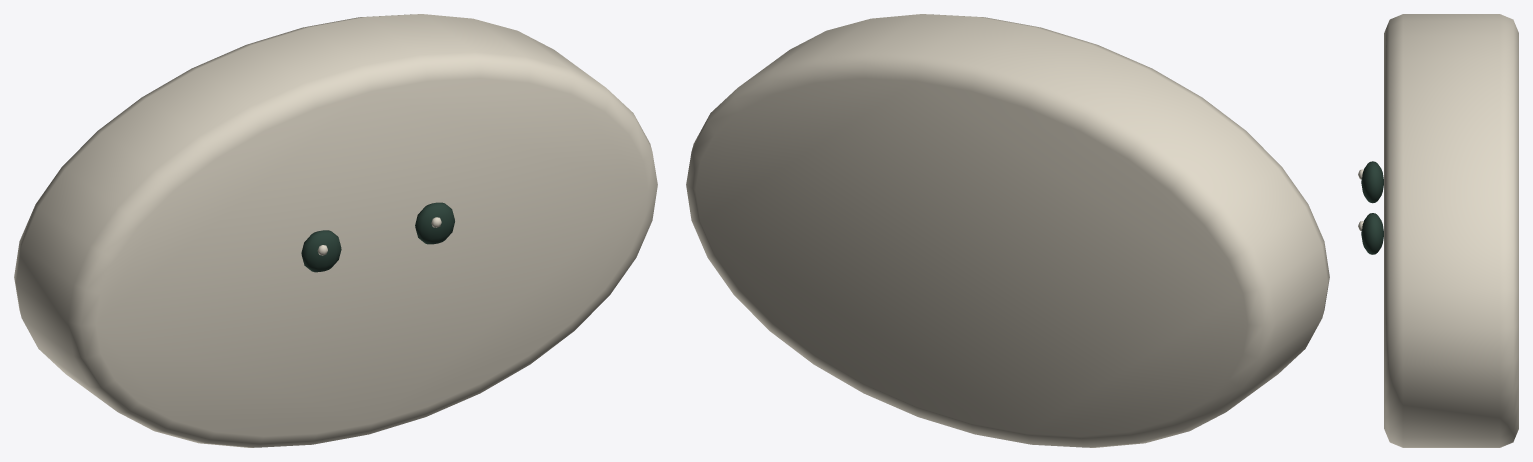
The model's file is shape_oval.glb.
3 views of the same model, side by side, from view 1: azimuth 30°, elevation 25°; view 2: azimuth 150°, elevation 25°; view 3: azimuth 270°, elevation 25° (orthographic). The views are drawn at different scales.
Parts seen in each view (by area): view 1: color_body, body; view 2: color_body; view 3: color_body, body.
Boxes of the visible parts, <box> form: color_body: <box>14,14,657,447</box>; body: <box>301,202,454,272</box>; color_body: <box>686,14,1329,447</box>; color_body: <box>1384,14,1518,447</box>; body: <box>1358,161,1383,254</box>.
Size of the model in its own units: 1.5 by 0.9 by 0.382.
